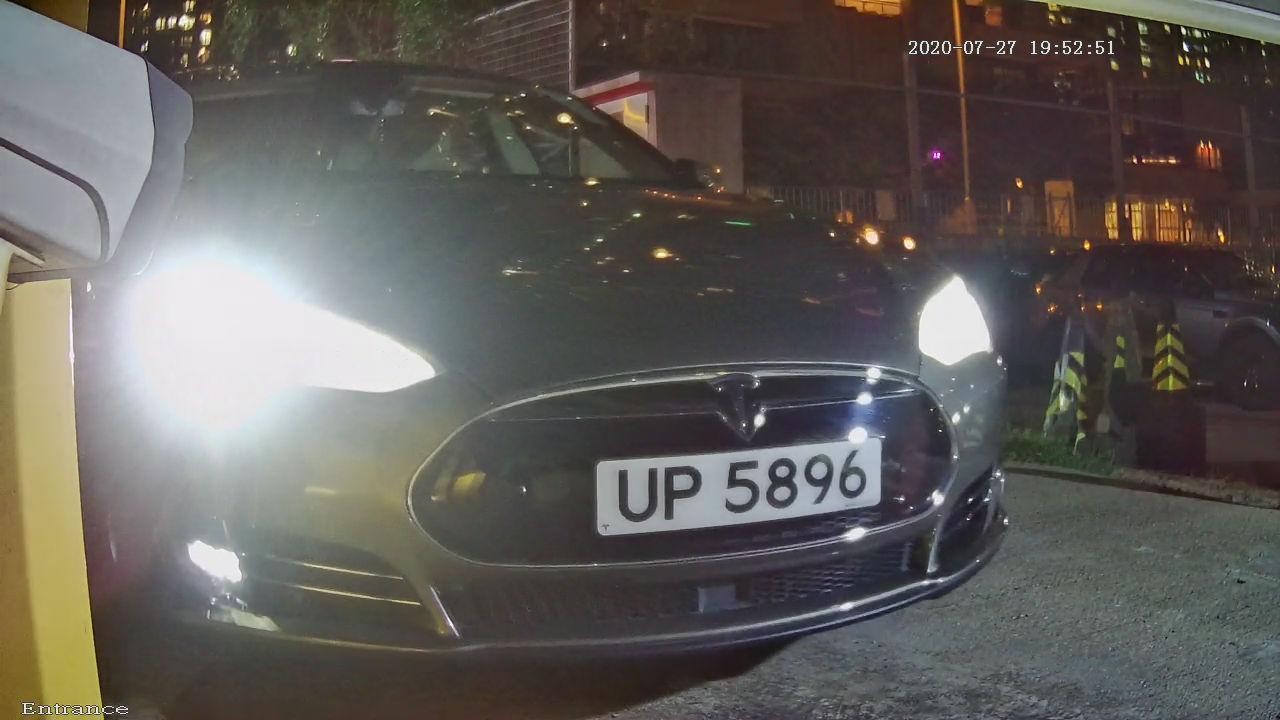privatecar: (98, 46, 1058, 692)
